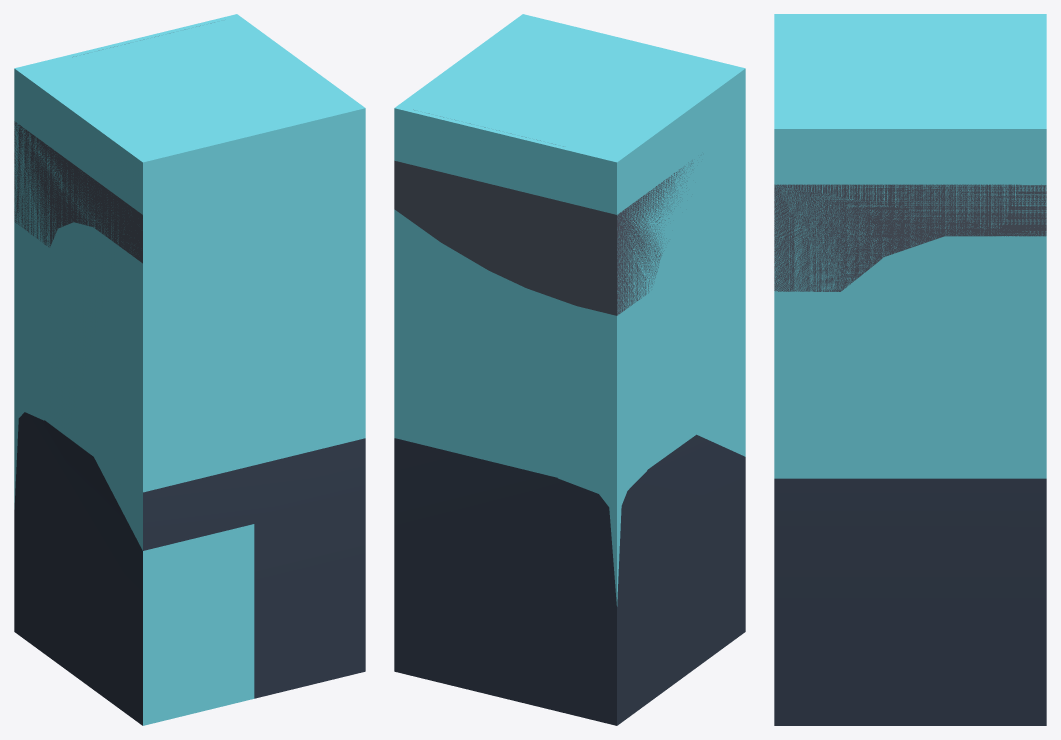
File: PBOX1_FLA_03.FBX
3 renders of one model, left to right at view 1: azimuth 30°, elevation 25°; view 2: azimuth 150°, elevation 25°; view 3: azimuth 270°, elevation 25°, orthographic. The views are drawn at different scales.
Parts seen in each view (by area): view 1: PBOX1_FlA_03, PBOX1_SUB_TAB_ROCK_01, PBOX1_SUB_FLA_007; view 2: PBOX1_FlA_03, PBOX1_SUB_TAB_ROCK_01, PBOX1_SUB_FLA_007; view 3: PBOX1_FlA_03, PBOX1_SUB_TAB_ROCK_01, PBOX1_SUB_FLA_007.
Boxes of the visible parts, x1,y1,x2,y2 form: PBOX1_FlA_03: (14, 14, 365, 725); PBOX1_SUB_TAB_ROCK_01: (14, 412, 365, 725); PBOX1_SUB_FLA_007: (14, 22, 214, 263); PBOX1_FlA_03: (394, 14, 745, 606); PBOX1_SUB_TAB_ROCK_01: (394, 434, 745, 725); PBOX1_SUB_FLA_007: (394, 109, 693, 315); PBOX1_FlA_03: (774, 14, 1046, 478); PBOX1_SUB_TAB_ROCK_01: (774, 478, 1046, 725); PBOX1_SUB_FLA_007: (774, 184, 1046, 291).
Bounding box in the file's own units: 6 × 14.5 × 6.
